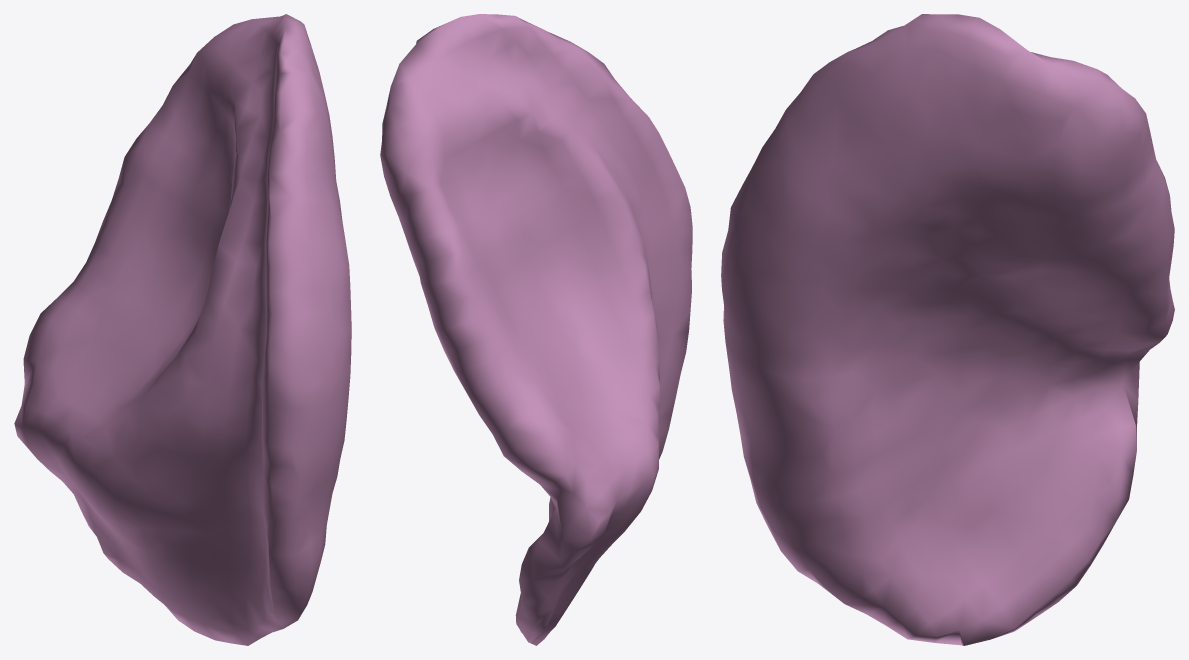
3 views of the same model, side by side, from view 1: azimuth 30°, elevation 25°; view 2: azimuth 150°, elevation 25°; view 3: azimuth 270°, elevation 25° (orthographic). The views are drawn at different scales.
Visible parts, largest first — view 1: 左侧豆状核; view 2: 左侧豆状核; view 3: 左侧豆状核.
Part boxes in pixels (x1,y1,x2,y2): 左侧豆状核: (14,14,351,645); 左侧豆状核: (380,14,692,645); 左侧豆状核: (721,14,1174,645).
Size of the model in its own units: 0.0327 by 0.0771 by 0.0473.
